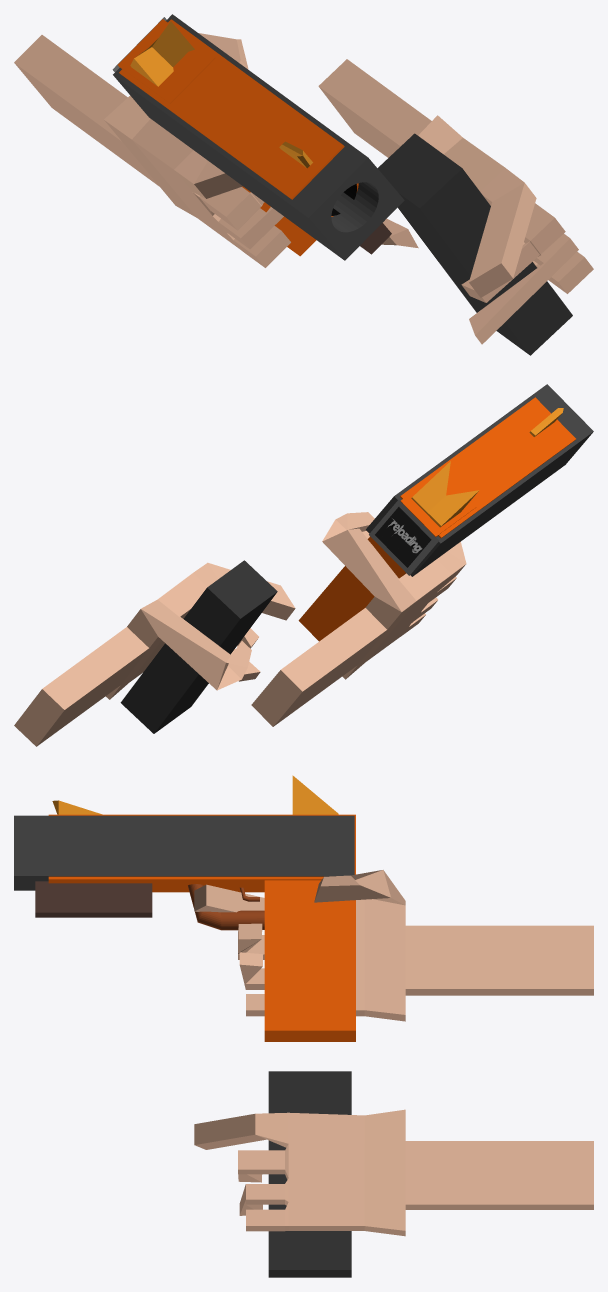
The model's file is gun pistol realoading frame 6.fbx.
3 renders of one model, top to bottom at view 1: azimuth 30°, elevation 25°; view 2: azimuth 150°, elevation 25°; view 3: azimuth 270°, elevation 25°, orthographic. The views are drawn at different scales.
Visible parts, largest first — view 1: Cube.008, Cube, Cube.004, Cube.005, Cube.001, Cube.002, Cube.006, Cube.003; view 2: Cube.008, Cube, Cube.004, Cube.001, Cube.005, Cube.002, Cube.006, Plane.001, Plane; view 3: Cube.008, Cube, Cube.005, Cube.002, Cube.004, Cube.003, Cube.001, Cylinder, Cube.006.
Boxes of the visible parts, x1=… form: Cube.008: x1=318, y1=59, x2=593, y2=344; Cube: x1=14, y1=33, x2=290, y2=267; Cube.004: x1=377, y1=133, x2=572, y2=355; Cube.005: x1=113, y1=14, x2=404, y2=260; Cube.001: x1=119, y1=19, x2=358, y2=216; Cube.002: x1=118, y1=19, x2=316, y2=256; Cube.006: x1=130, y1=21, x2=194, y2=86; Cube.003: x1=360, y1=223, x2=391, y2=254; Cube.008: x1=14, y1=562, x2=295, y2=746; Cube: x1=251, y1=512, x2=466, y2=726; Cube.004: x1=120, y1=560, x2=277, y2=733; Cube.001: x1=400, y1=397, x2=575, y2=538; Cube.005: x1=366, y1=384, x2=593, y2=576; Cube.002: x1=298, y1=475, x2=476, y2=641; Cube.006: x1=411, y1=461, x2=478, y2=527; Plane.001: x1=375, y1=507, x2=431, y2=567; Plane: x1=369, y1=499, x2=438, y2=575; Cube.008: x1=194, y1=1109, x2=593, y2=1236; Cube: x1=194, y1=870, x2=593, y2=1021; Cube.005: x1=14, y1=815, x2=354, y2=890; Cube.002: x1=264, y1=814, x2=355, y2=1041; Cube.004: x1=268, y1=1071, x2=351, y2=1277; Cube.003: x1=35, y1=881, x2=152, y2=917; Cube.001: x1=48, y1=814, x2=348, y2=892; Cylinder: x1=188, y1=884, x2=264, y2=930; Cube.006: x1=292, y1=775, x2=338, y2=814.
Bounding box in the file's own units: 528 × 472 × 698.
Materials: 11 (1 with a texture image).
